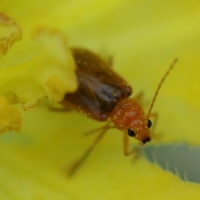insect: (62, 48, 176, 154)
